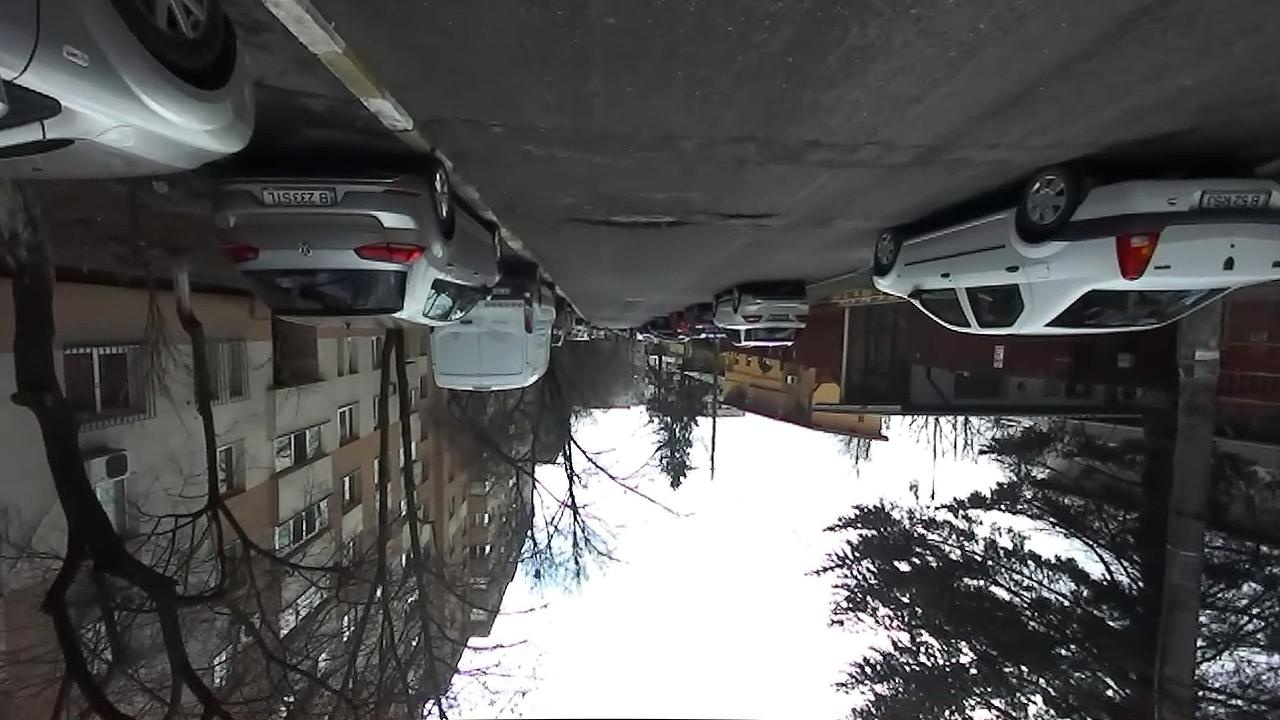pothole: (559, 208, 695, 231), (430, 112, 510, 136), (701, 209, 782, 223)
